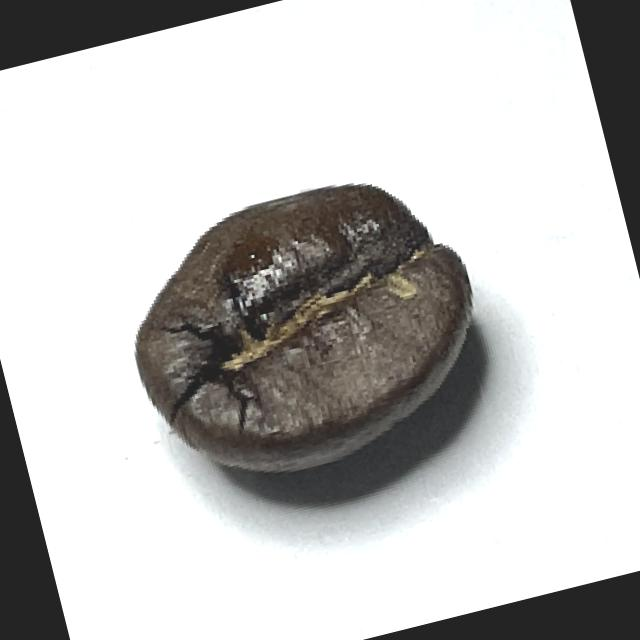bean: (100, 147, 510, 503)
